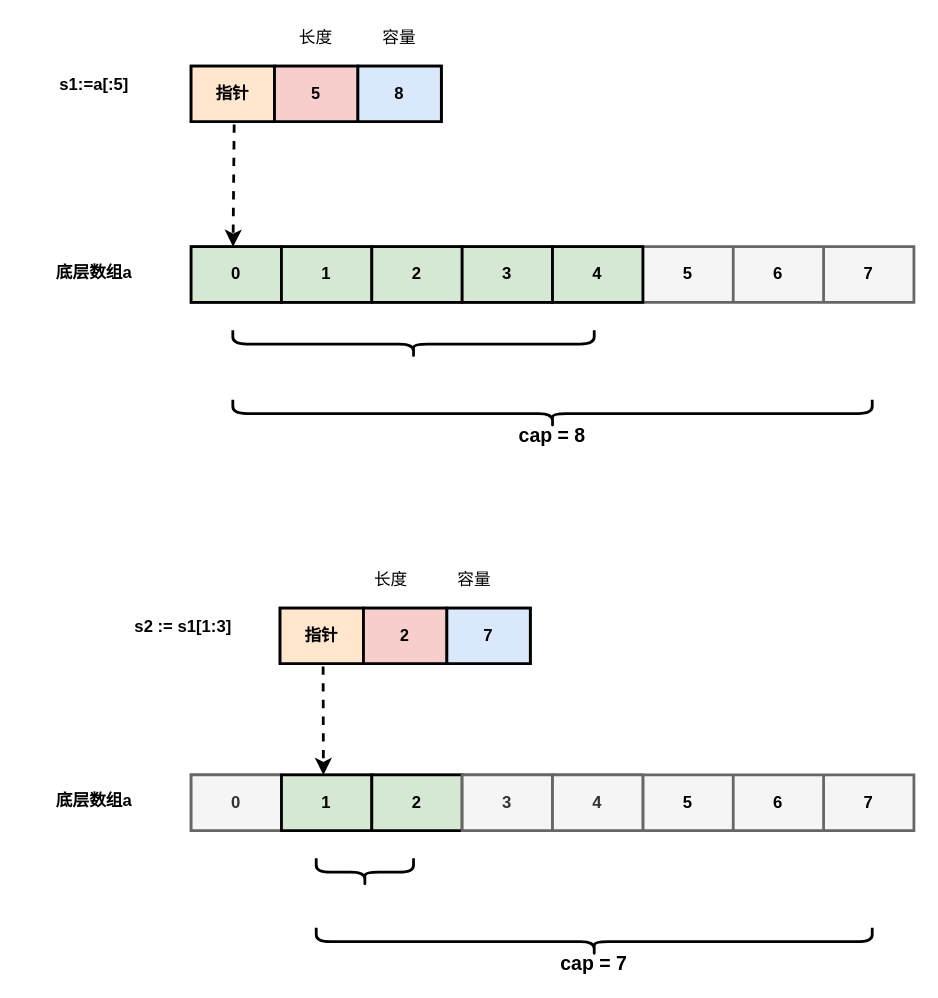
Some shapes in this 938 by 998 pixel diagram are drawn without their labels. Each missing label, with the centre of its shape:
"len = 2" goes at point (364, 871).
"len = 5" goes at point (413, 343).
